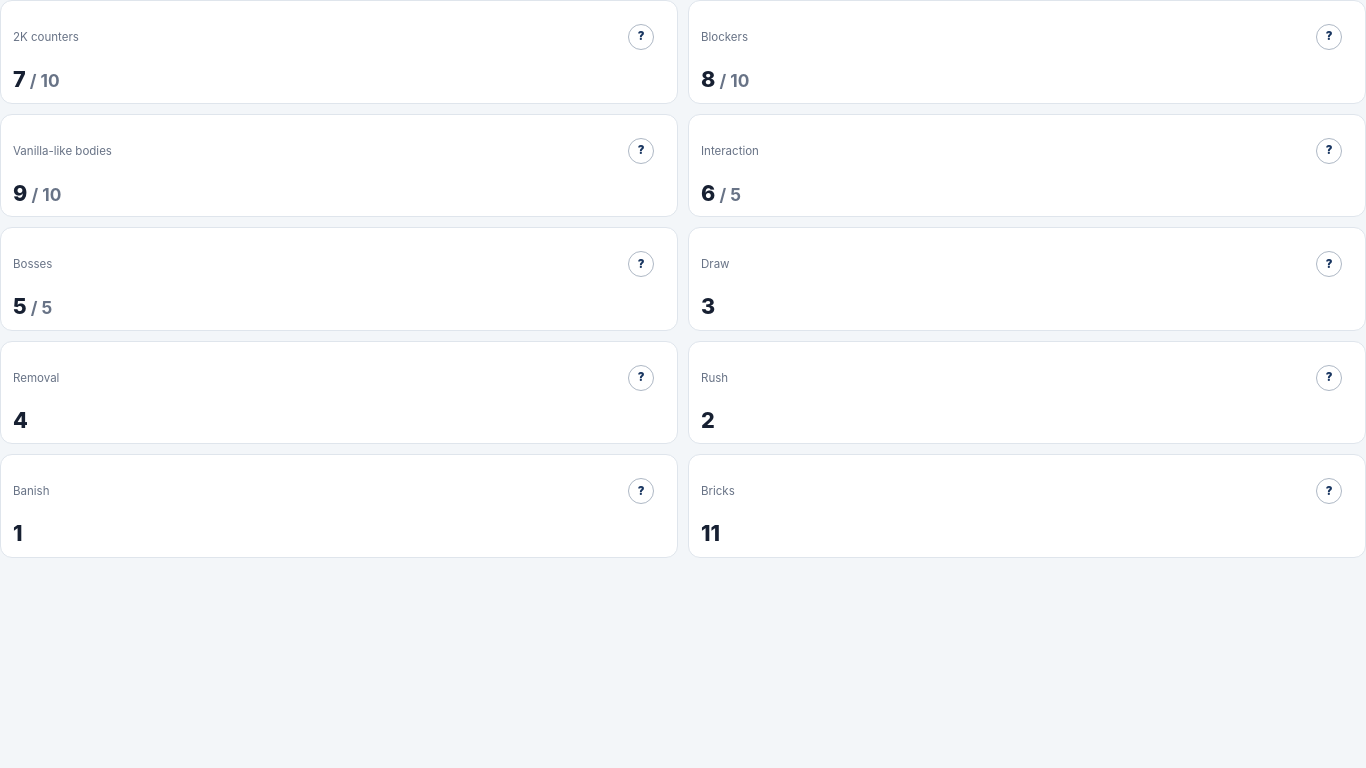
it: DeckRoleCoverage › explains blockers in one shared panel beside the active metric
The image size is (1366, 768).
Click the button named "What does Blockers mean?". click: (1329, 37)
box: left=1305, top=13, right=1353, bottom=61
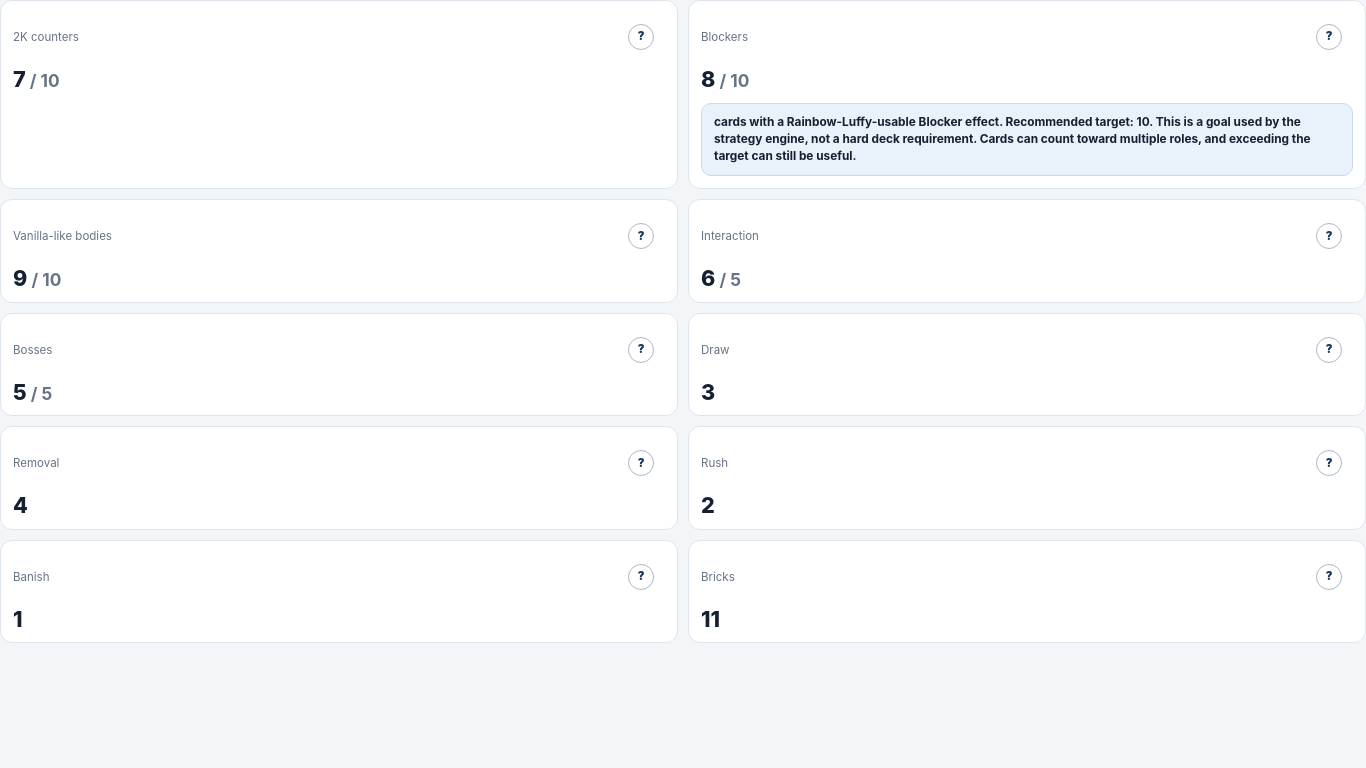
expect the tooltip shows "cards with a Rainbow-Luffy-usable Blocker effect.": met, box left=714, top=115, right=1310, bottom=163
